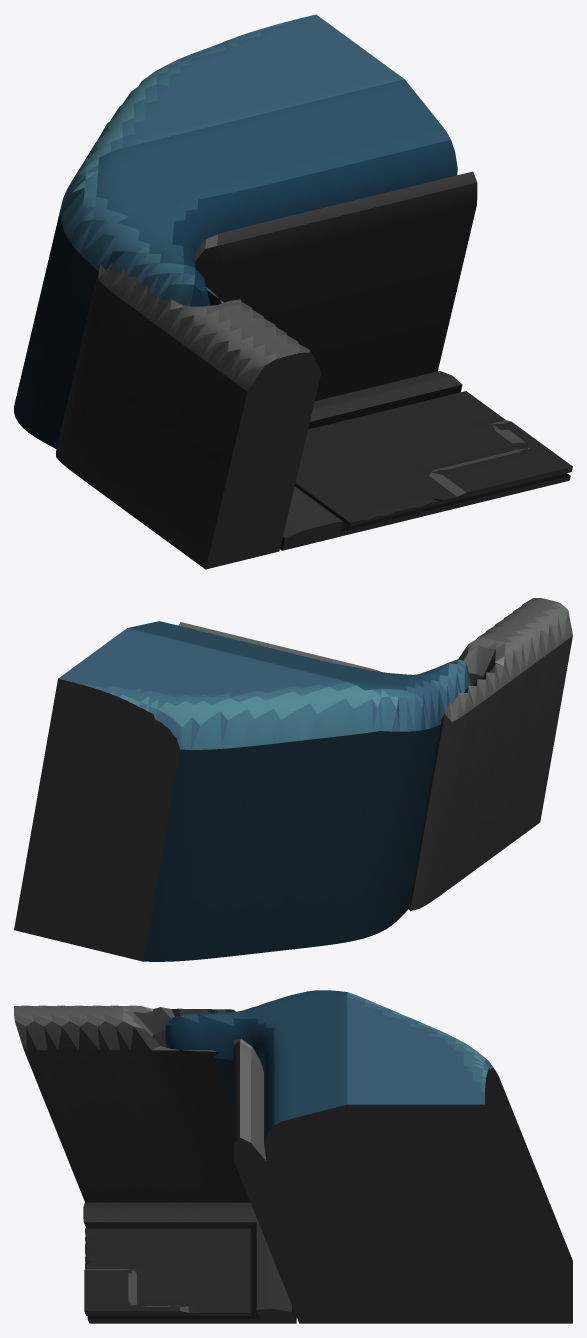
File: fleet_walker_39.glb
3 views of the same model, one above another, from view 1: azimuth 30°, elevation 25°; view 2: azimuth 150°, elevation 25°; view 3: azimuth 270°, elevation 25° (orthographic). The views are drawn at different scales.
Visible parts, largest first — view 1: fleet_walker_39; view 2: fleet_walker_39; view 3: fleet_walker_39.
Boxes of the visible parts, <box> form: fleet_walker_39: <box>14,14,572,569</box>; fleet_walker_39: <box>14,598,572,961</box>; fleet_walker_39: <box>14,990,572,1323</box>.
Size of the model in its own units: 19 by 14 by 32.37.
